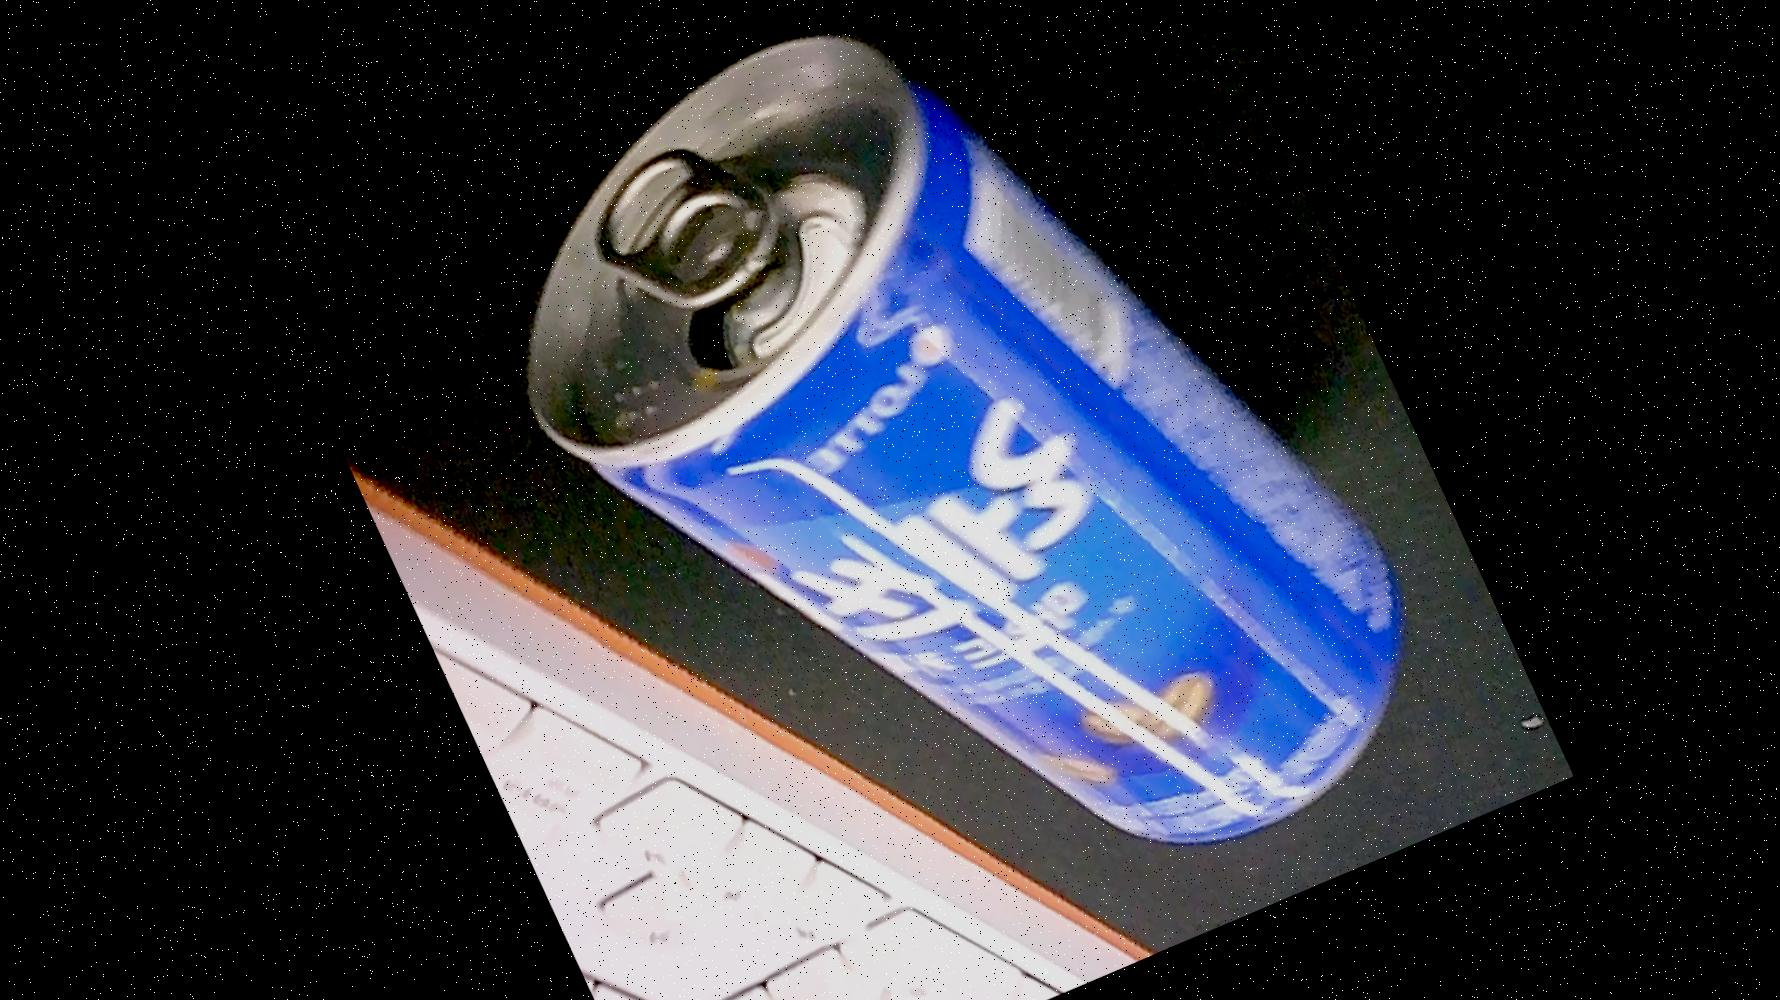letsbe: (421, 2, 1478, 1000)
